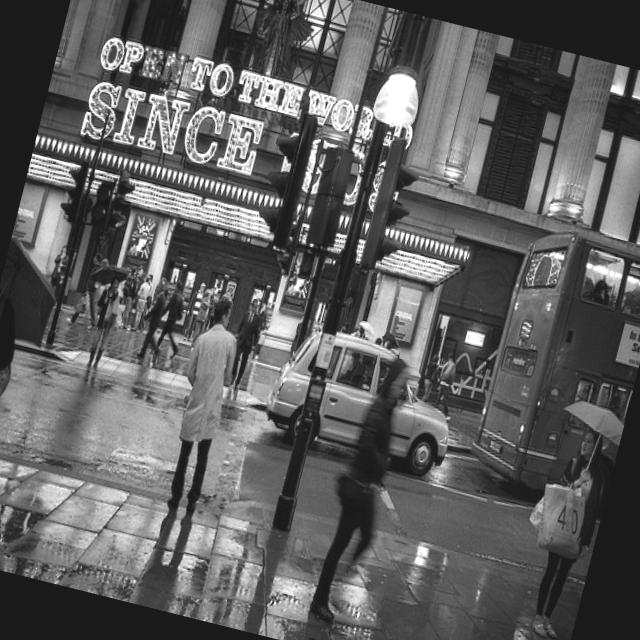Vehicle: (462, 216, 640, 512), (255, 321, 469, 482)
